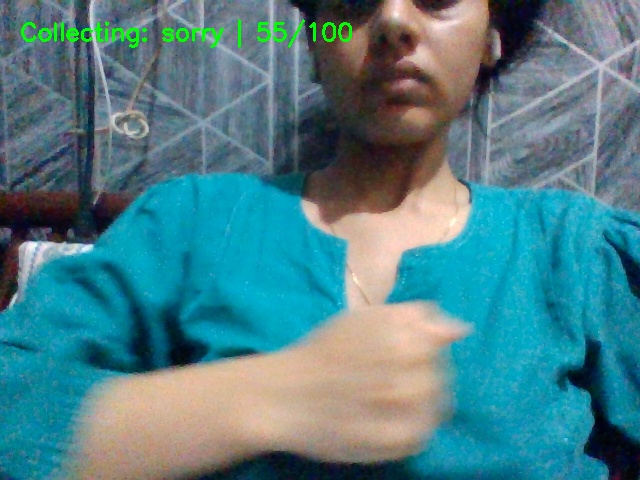sorry: (258, 291, 487, 468)
